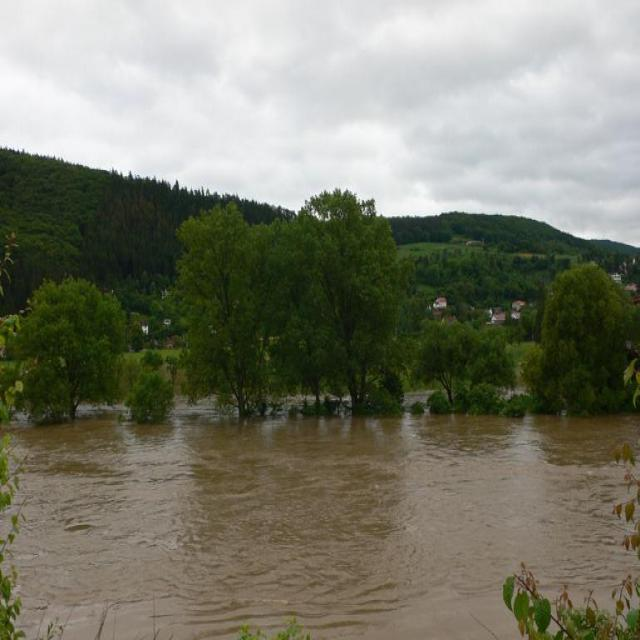flood: (9, 401, 640, 640)
